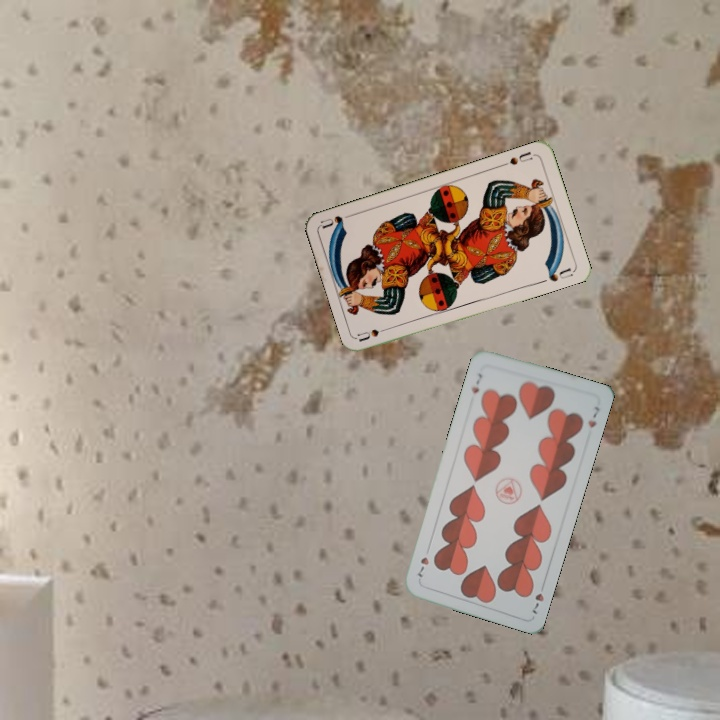H7: (528, 578, 547, 617), (467, 369, 485, 396)
SU: (355, 322, 395, 344), (498, 147, 535, 169)
